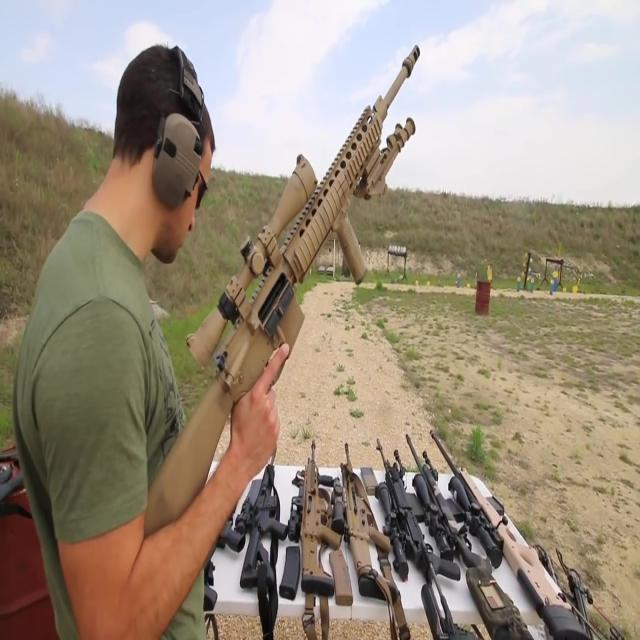Weapon: (104, 19, 454, 617), (208, 397, 596, 640)
